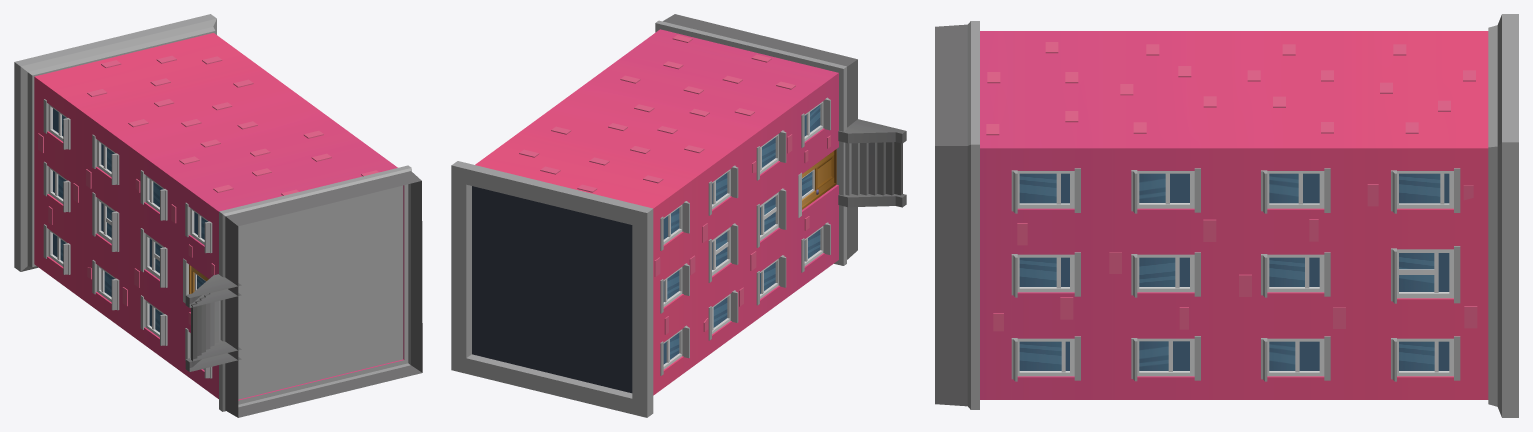
The model's file is Building_2_2_B.glb.
The picture shows the model from 3 angles, left to right: view 1: azimuth 30°, elevation 25°; view 2: azimuth 150°, elevation 25°; view 3: azimuth 270°, elevation 25°; orthographic projection. The views are drawn at different scales.
Visible parts, largest first — view 1: Building_2_2_B; view 2: Building_2_2_B; view 3: Building_2_2_B.
Boxes of the visible parts, bbox=[...] form: Building_2_2_B: bbox=[14, 14, 422, 417]; Building_2_2_B: bbox=[451, 14, 906, 417]; Building_2_2_B: bbox=[935, 14, 1518, 417].
Size of the model in its own units: 7.54 by 6.2 by 11.91.
Materials: 3 (3 with a texture image).
